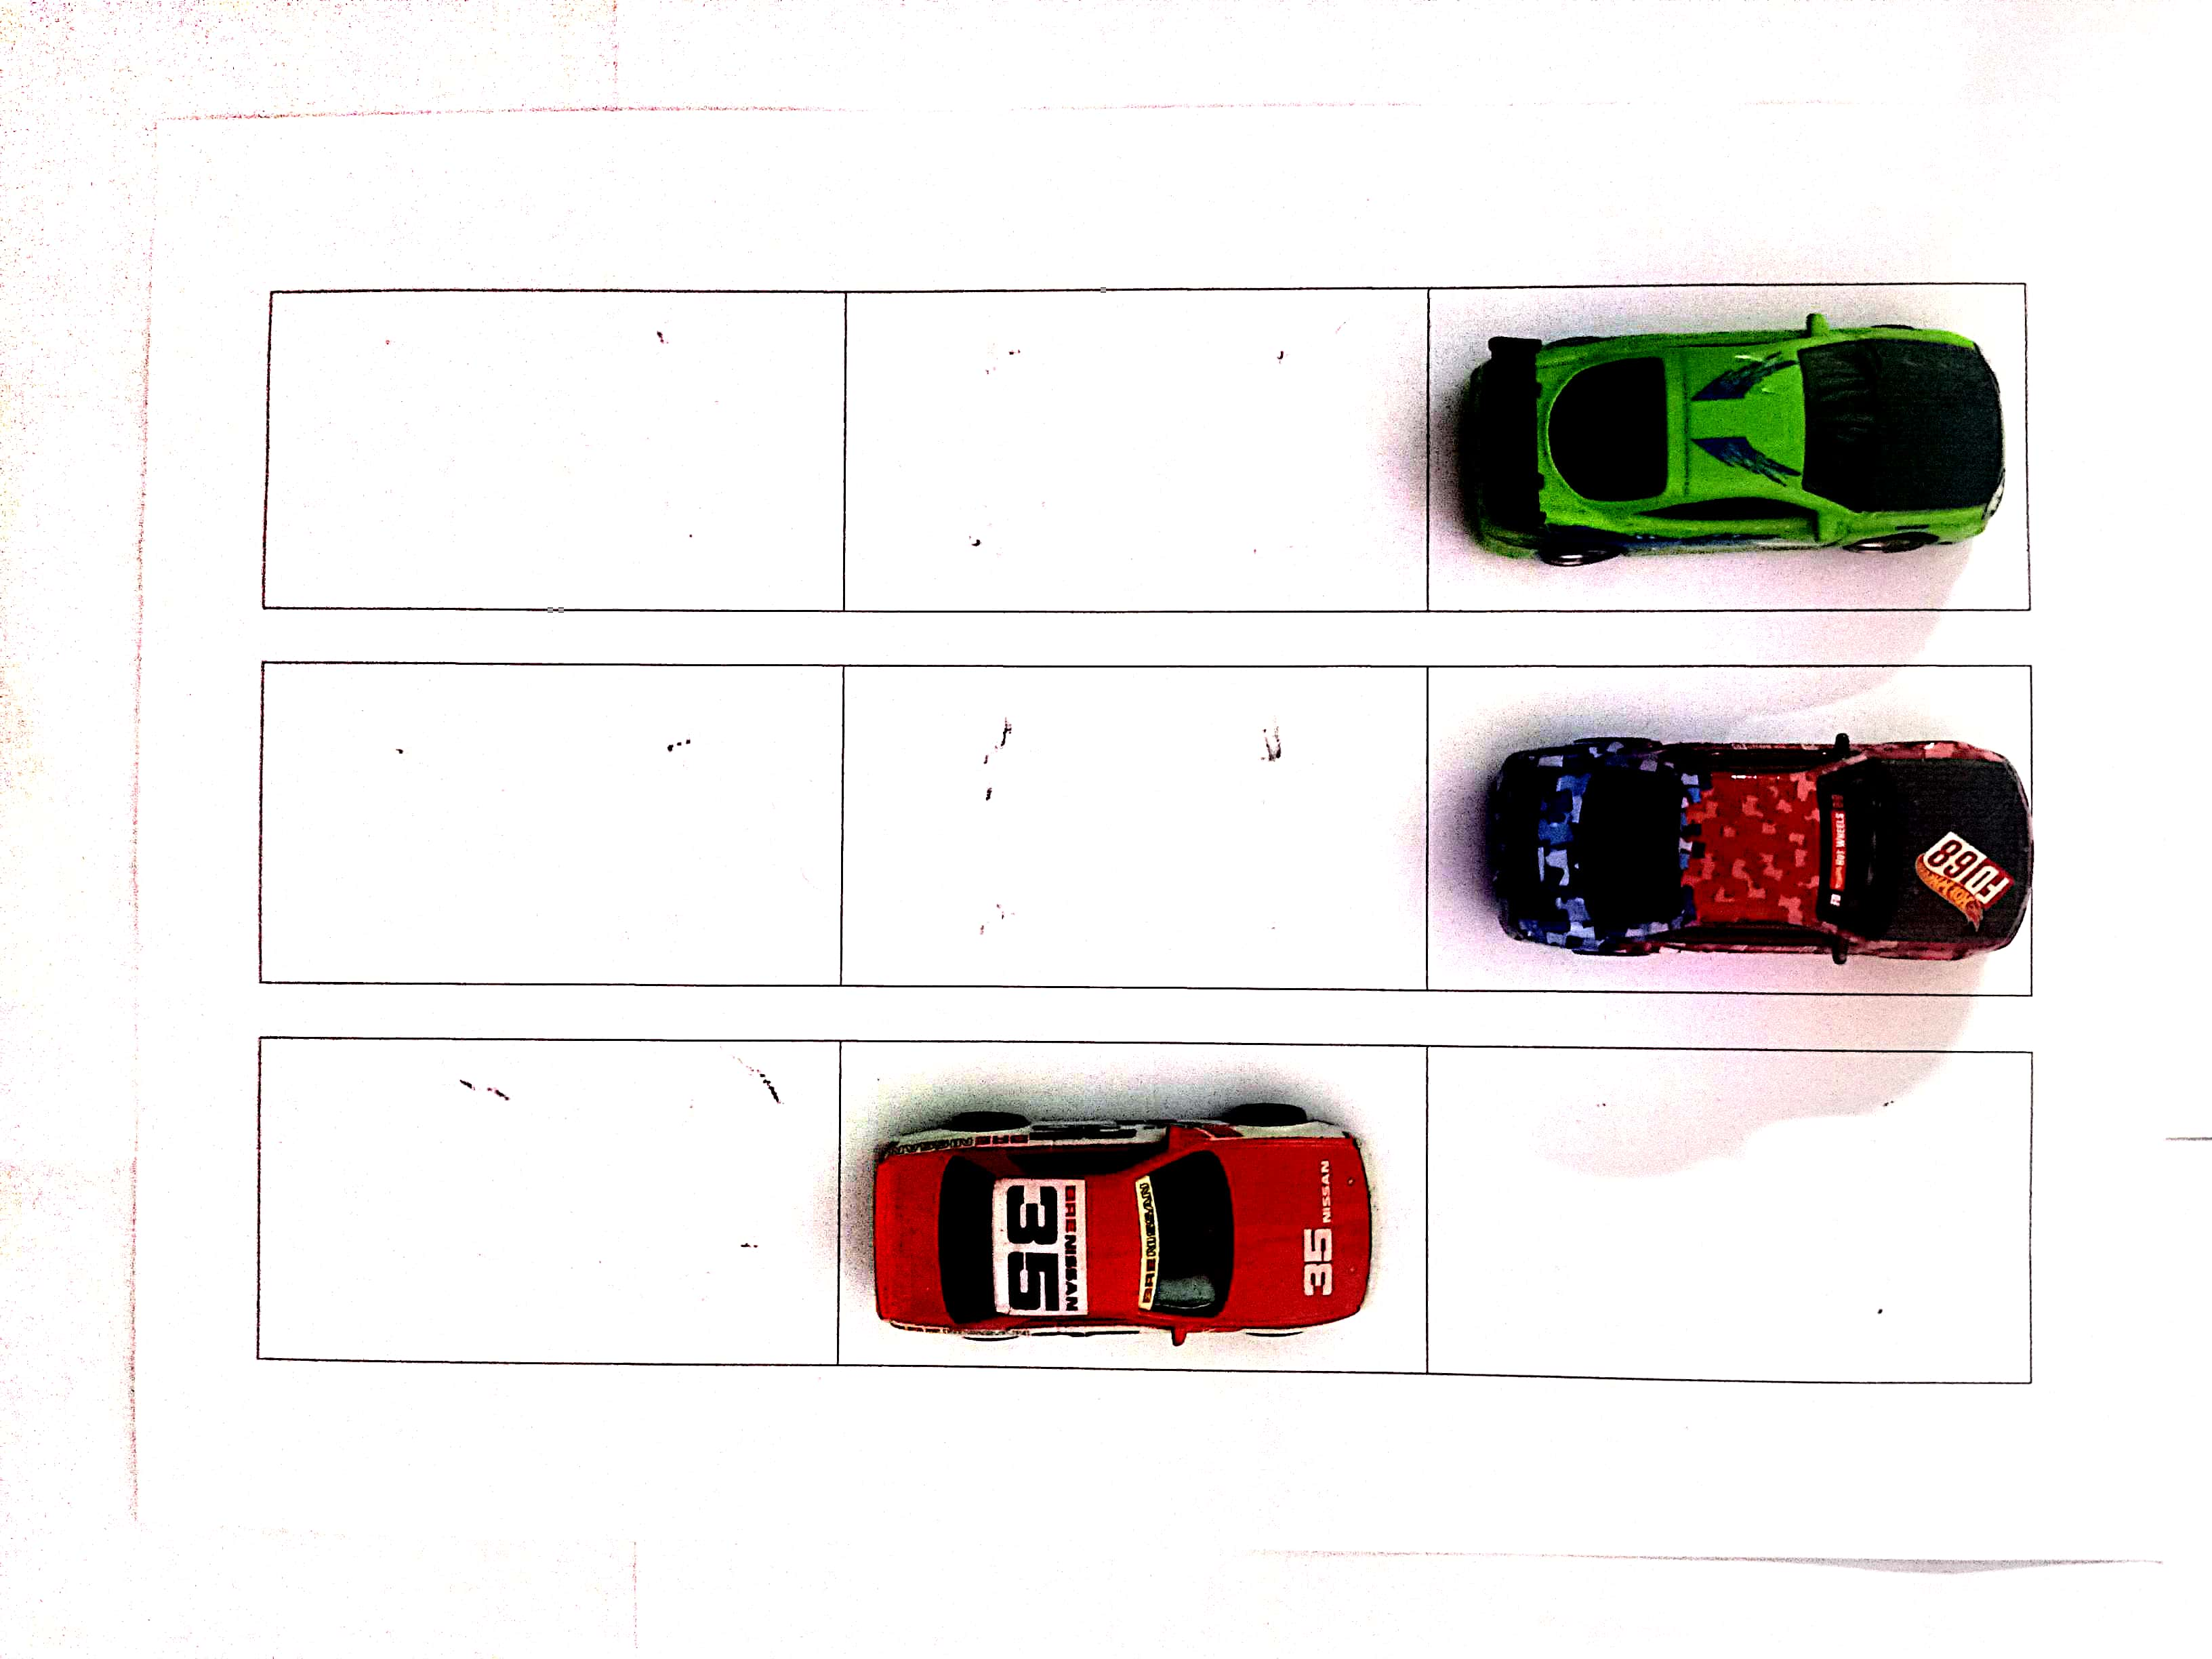Busy: (1425, 667, 2034, 992), (1433, 284, 2033, 610), (843, 1046, 1420, 1359)
Free: (1425, 1056, 2029, 1375), (845, 662, 1420, 992), (845, 293, 1432, 606), (265, 667, 843, 983), (273, 293, 836, 610), (261, 1044, 836, 1354)
